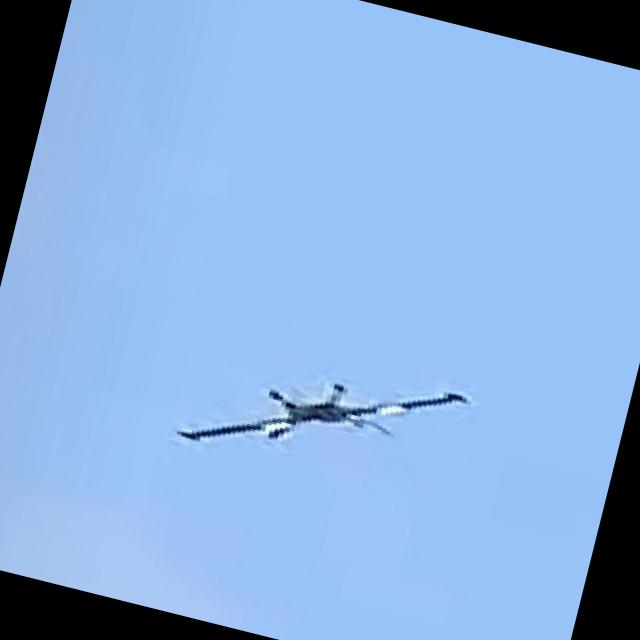UAV: (173, 269, 492, 532)
